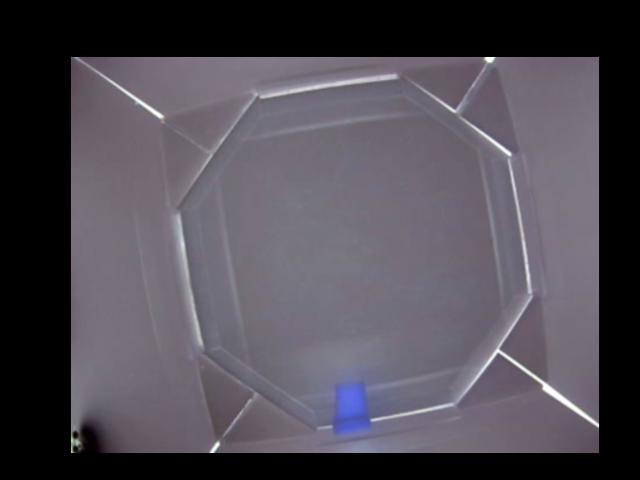Potato: (330, 378, 372, 435)
